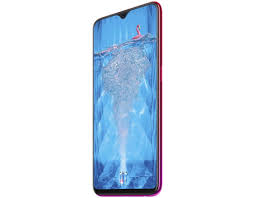oppo: (87, 1, 164, 198)
